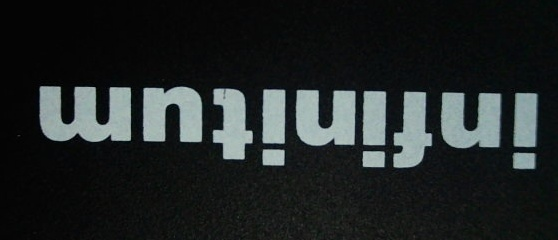BK_infinitum: (38, 64, 539, 171)
